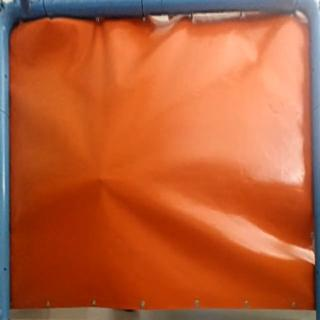Hit-hRxx: (94, 170, 112, 188)
